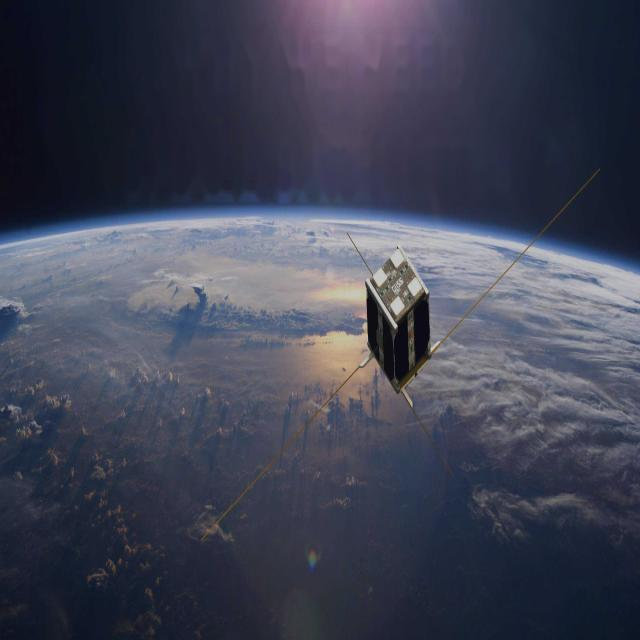satellite: (334, 221, 470, 407)
